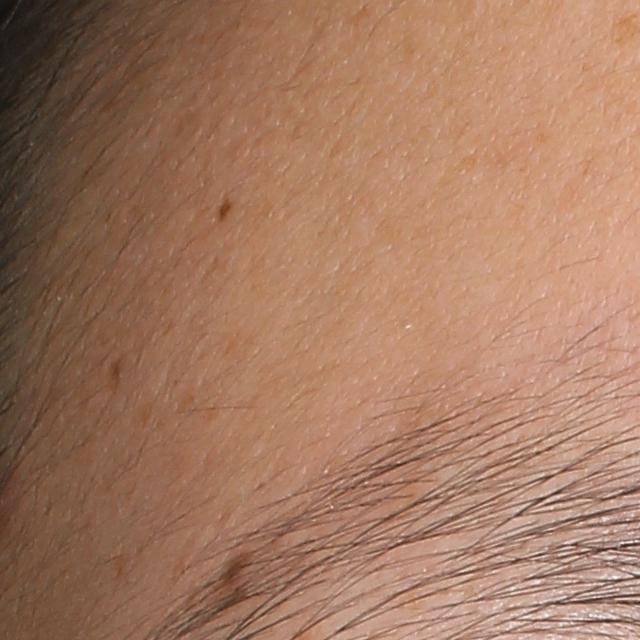nevus: (217, 548, 256, 592), (107, 351, 135, 395), (218, 193, 233, 221)
